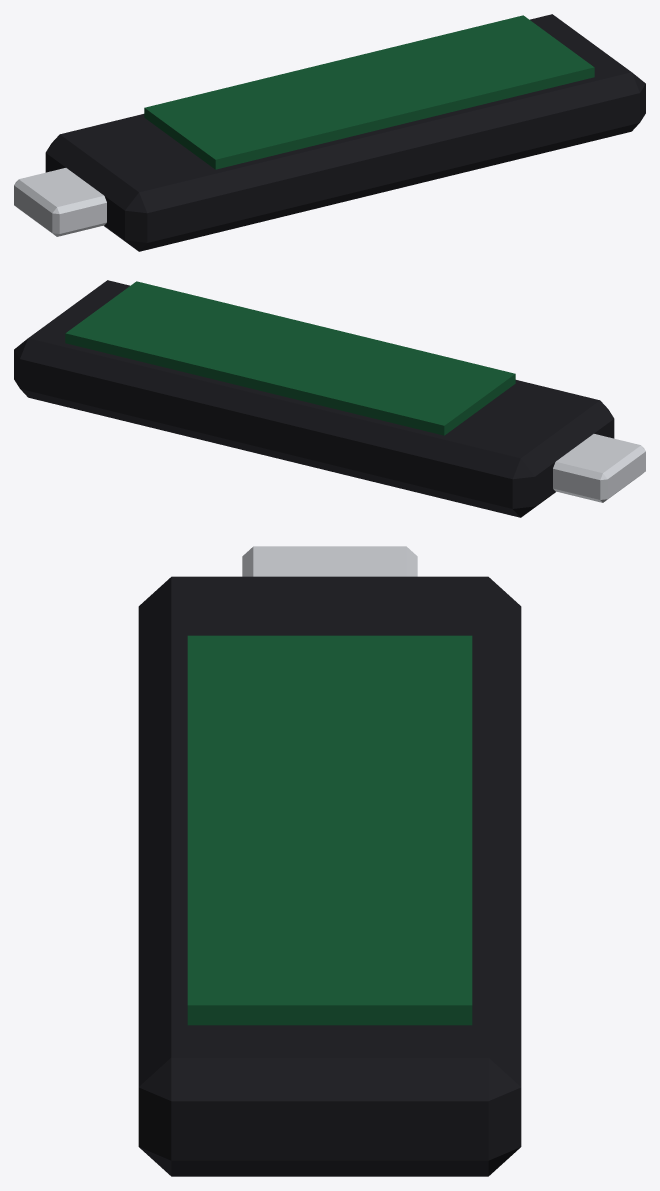
Rendered from adaptador_m2.obj.
The picture shows the model from 3 angles, top to bottom: view 1: azimuth 30°, elevation 25°; view 2: azimuth 150°, elevation 25°; view 3: azimuth 270°, elevation 25°; orthographic projection. The views are drawn at different scales.
Visible parts, largest first — view 1: adaptador_m2; view 2: adaptador_m2; view 3: adaptador_m2.
Part boxes in pixels (x1,y1,x2,y2): adaptador_m2: (14, 14, 645, 251); adaptador_m2: (14, 280, 645, 517); adaptador_m2: (138, 546, 521, 1176).
Size of the model in its own units: 0.121 by 0.014 by 0.035.
